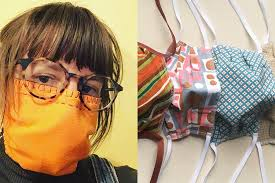mask: (6, 16, 109, 175)
